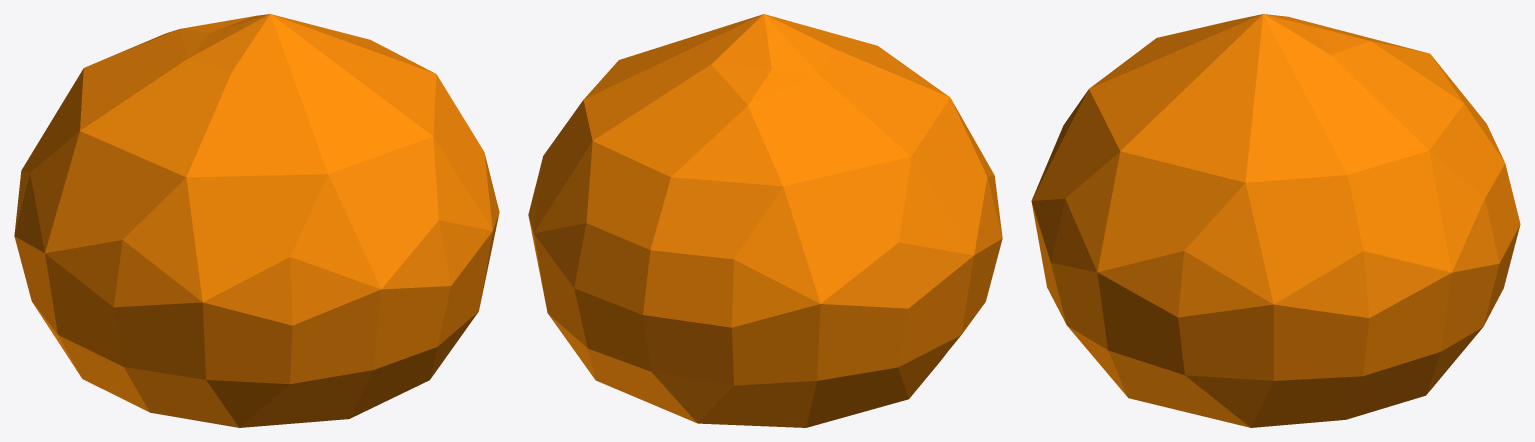
The model's file is orange.glb.
The picture shows the model from 3 angles, left to right: view 1: azimuth 30°, elevation 25°; view 2: azimuth 150°, elevation 25°; view 3: azimuth 270°, elevation 25°; orthographic projection. The views are drawn at different scales.
Parts seen in each view (by area): view 1: Orange; view 2: Orange; view 3: Orange.
Boxes of the visible parts, <box> form: Orange: <box>14,14,499,427</box>; Orange: <box>528,14,1002,427</box>; Orange: <box>1031,14,1520,427</box>.
Size of the model in its own units: 0.1586 by 0.1447 by 0.1578.
Materials: 1 (1 with a texture image).
